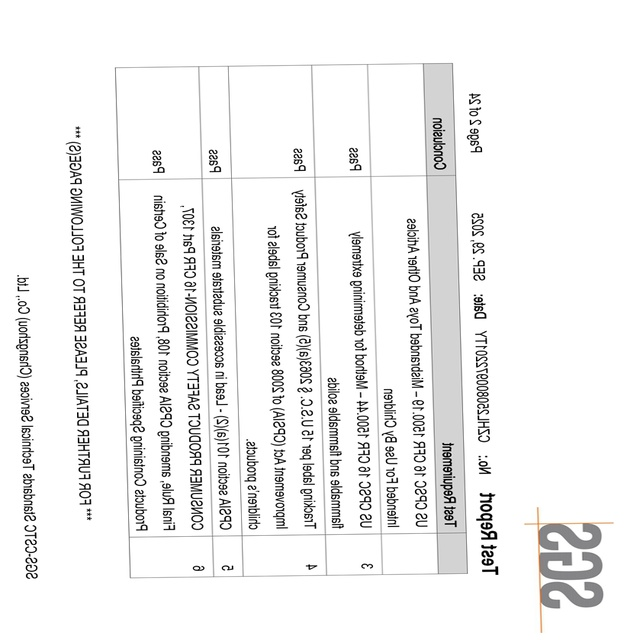sgs: (538, 523, 603, 610)
